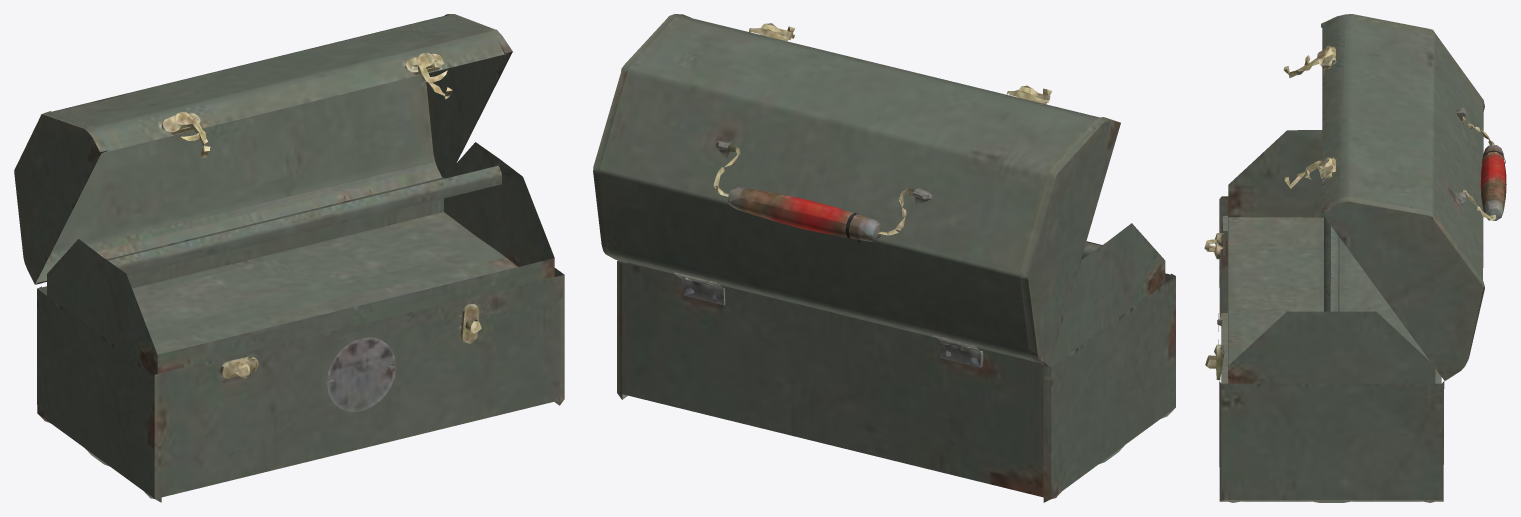
Rendered from toolbox.glb.
3 renders of one model, left to right at view 1: azimuth 30°, elevation 25°; view 2: azimuth 150°, elevation 25°; view 3: azimuth 270°, elevation 25°, orthographic. The views are drawn at different scales.
Visible parts, largest first — view 1: mesh; view 2: mesh; view 3: mesh.
Part boxes in pixels (box(x1,y1,x2,y2)): mesh: box(14, 14, 564, 502); mesh: box(593, 14, 1175, 502); mesh: box(1204, 14, 1506, 502).
Size of the model in its own units: 0.3943 by 0.3 by 0.2669.
1 material, 1 textured.
